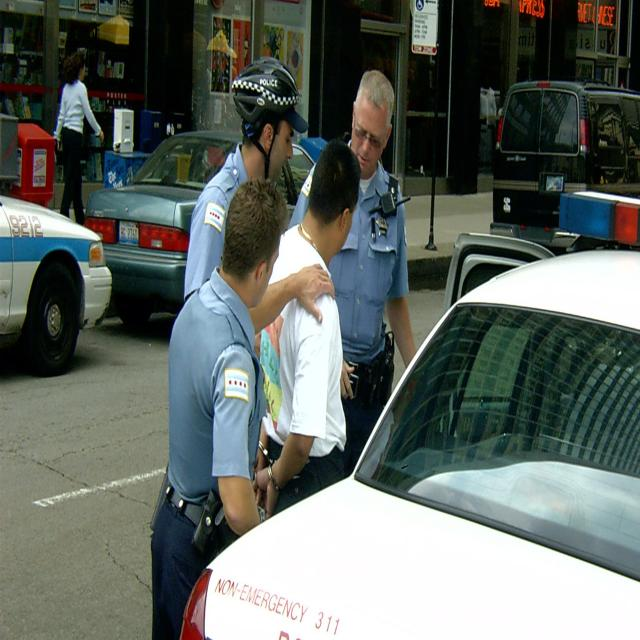police: (157, 181, 282, 640), (298, 53, 423, 412), (175, 44, 311, 298)
